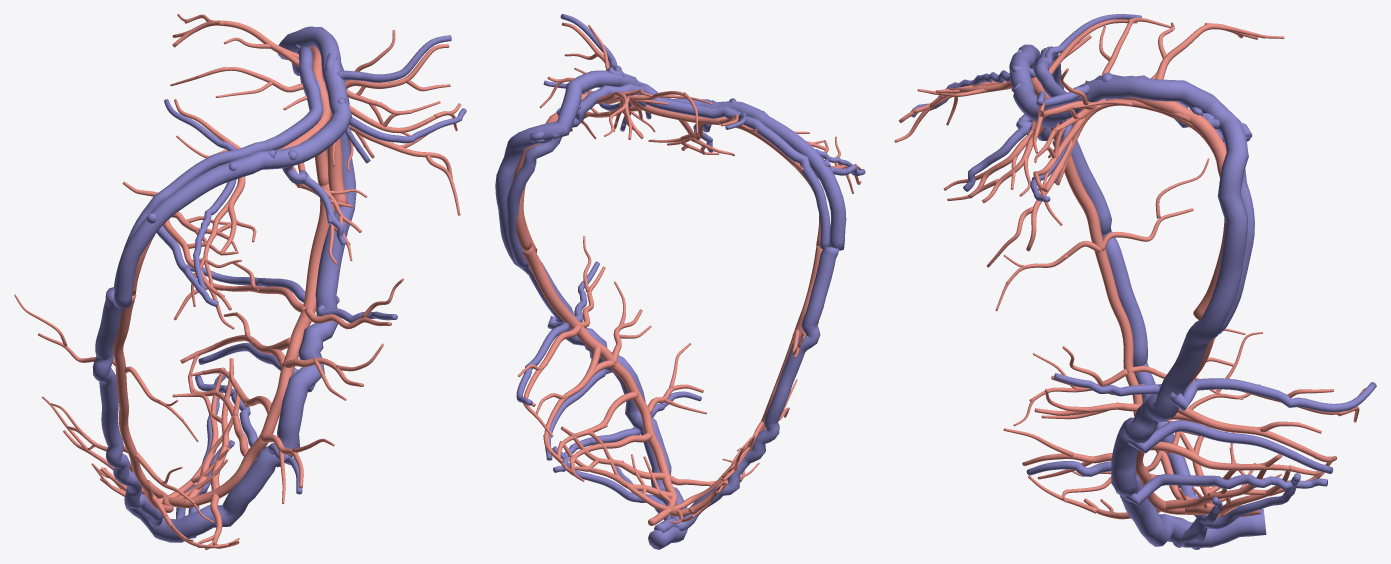
Rendered from vessels_74.glb.
The picture shows the model from 3 angles, left to right: view 1: azimuth 30°, elevation 25°; view 2: azimuth 150°, elevation 25°; view 3: azimuth 270°, elevation 25°; orthographic projection. The views are drawn at different scales.
Parts seen in each view (by area): view 1: Renderer Node; view 2: Renderer Node; view 3: Renderer Node.
Part boxes in pixels (box(x1,y1,x2,y2)): Renderer Node: box(14, 14, 466, 549); Renderer Node: box(495, 14, 865, 549); Renderer Node: box(894, 14, 1376, 549).
Bounding box in the file's own units: 95.2 × 124 × 95.72.
